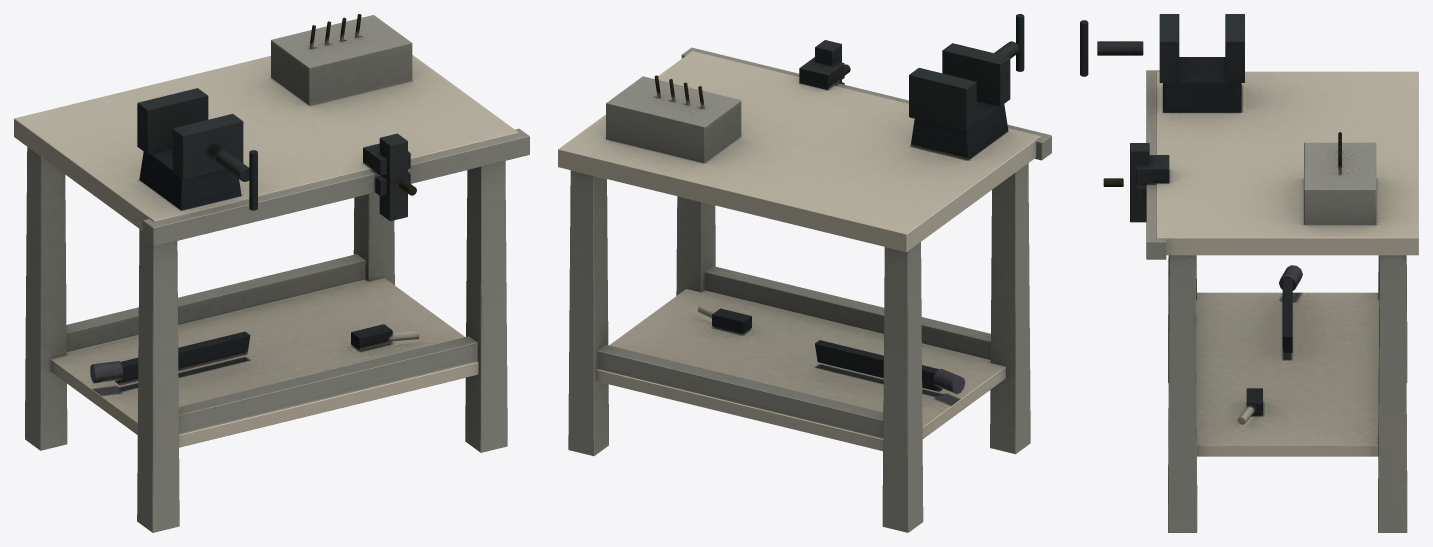
File: DD_workbench1_L37.glb
The picture shows the model from 3 angles, left to right: view 1: azimuth 30°, elevation 25°; view 2: azimuth 150°, elevation 25°; view 3: azimuth 270°, elevation 25°; orthographic projection. The views are drawn at different scales.
Parts seen in each view (by area): view 1: DD_workbench1_L37; view 2: DD_workbench1_L37; view 3: DD_workbench1_L37.
Boxes of the visible parts, <box> form: DD_workbench1_L37: <box>14,14,529,532</box>; DD_workbench1_L37: <box>558,14,1051,532</box>; DD_workbench1_L37: <box>1080,14,1418,532</box>.
Bounding box in the file's own units: 1.24 × 1.26 × 1.03.
Materials: 1 (1 with a texture image).
